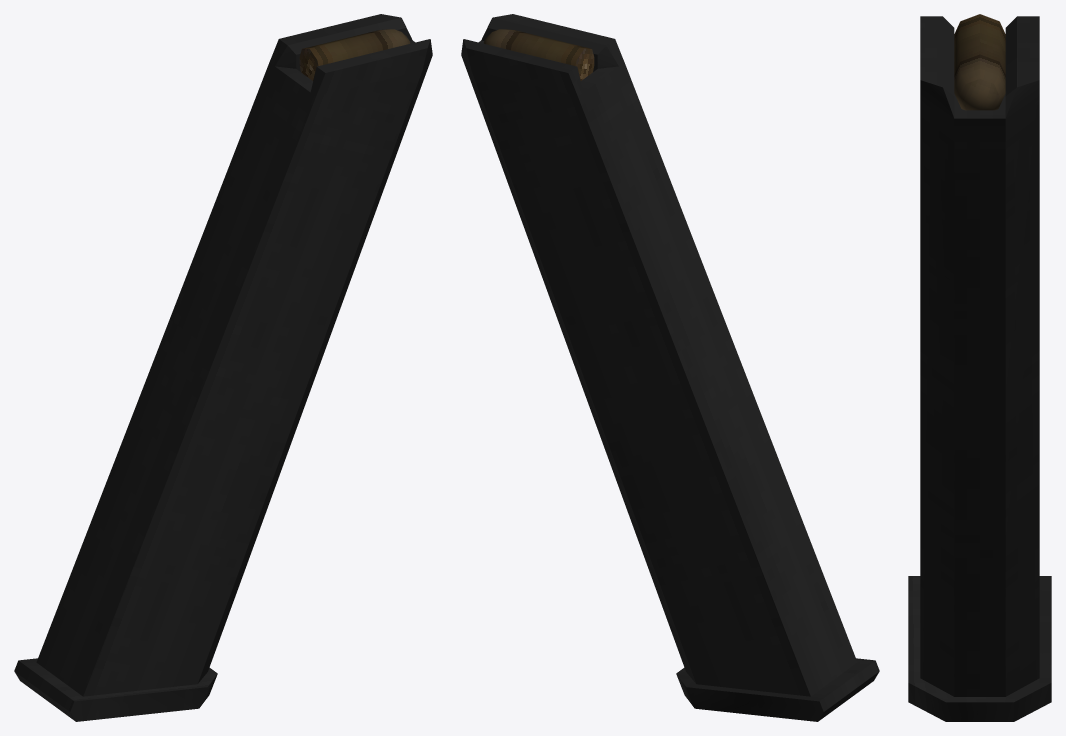
The model's file is pistol_mp_1_1_mag_initial.glb.
3 views of the same model, side by side, from view 1: azimuth 30°, elevation 25°; view 2: azimuth 150°, elevation 25°; view 3: azimuth 270°, elevation 25° (orthographic). The views are drawn at different scales.
Parts seen in each view (by area): view 1: pistol_mp_1_1_mag_initial; view 2: pistol_mp_1_1_mag_initial; view 3: pistol_mp_1_1_mag_initial.
Boxes of the visible parts, <box> form: pistol_mp_1_1_mag_initial: <box>14,14,432,721</box>; pistol_mp_1_1_mag_initial: <box>461,14,879,721</box>; pistol_mp_1_1_mag_initial: <box>908,14,1051,721</box>.
Size of the model in its own units: 0.1411 by 0.2158 by 0.036.
2 materials, 2 textured.
